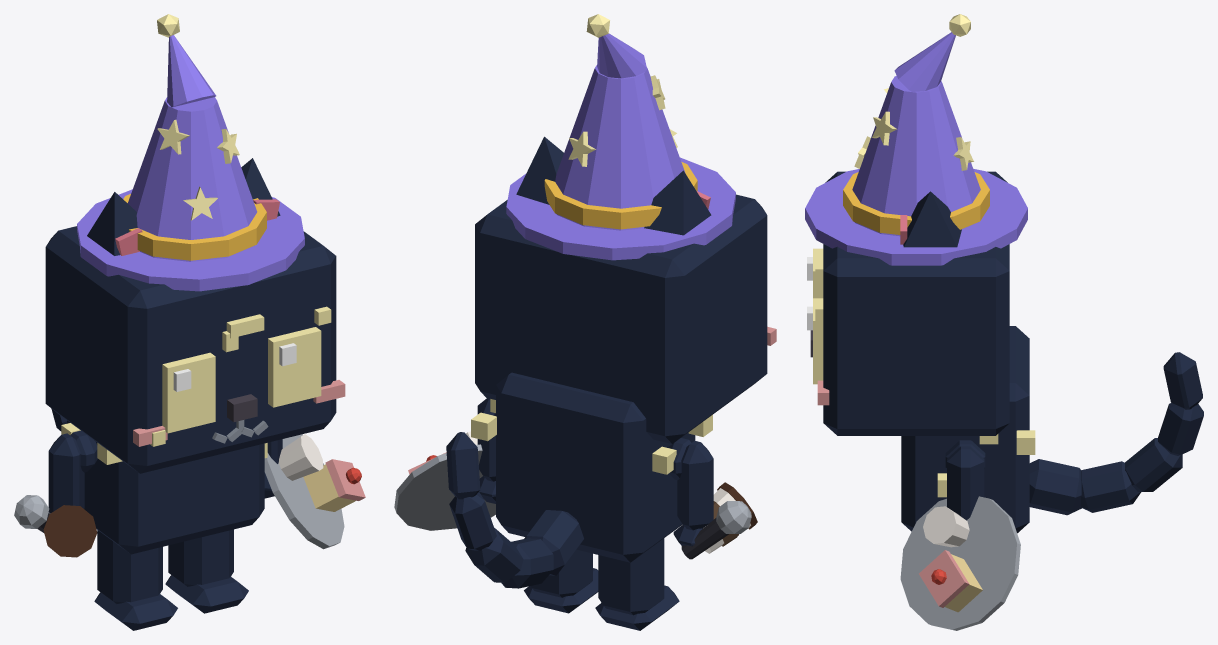
The model's file is CatCafe_Cat_Midnight_Work.glb.
The picture shows the model from 3 angles, left to right: view 1: azimuth 30°, elevation 25°; view 2: azimuth 150°, elevation 25°; view 3: azimuth 270°, elevation 25°; orthographic projection. The views are drawn at different scales.
Parts seen in each view (by area): view 1: CatCafe_Cat_Midnight_Work_Head, CatCafe_Cat_Midnight_Work_Prop, CatCafe_Cat_Midnight_Work_Body, CatCafe_Cat_Midnight_Work_Held_Waiter, CatCafe_Cat_Midnight_Work_LegB2, CatCafe_Cat_Midnight_Work_LegB1, CatCafe_Cat_Midnight_Work_Eye1, CatCafe_Cat_Midnight_Work_Eye2, CatCafe_Cat_Midnight_Work_LegF2, CatCafe_Cat_Midnight_Work_Held_Barista, CatCafe_Cat_Midnight_Work_EarR, CatCafe_Cat_Midnight_Work_EarL (+1 smaller); view 2: CatCafe_Cat_Midnight_Work_Head, CatCafe_Cat_Midnight_Work_Body, CatCafe_Cat_Midnight_Work_Prop, CatCafe_Cat_Midnight_Work_Tail, CatCafe_Cat_Midnight_Work_LegB2, CatCafe_Cat_Midnight_Work_Held_Waiter, CatCafe_Cat_Midnight_Work_LegF2, CatCafe_Cat_Midnight_Work_LegB1, CatCafe_Cat_Midnight_Work_EarR, CatCafe_Cat_Midnight_Work_Held_Entertainer, CatCafe_Cat_Midnight_Work_EarL, CatCafe_Cat_Midnight_Work_LegF1 (+1 smaller); view 3: CatCafe_Cat_Midnight_Work_Head, CatCafe_Cat_Midnight_Work_Prop, CatCafe_Cat_Midnight_Work_Held_Waiter, CatCafe_Cat_Midnight_Work_Body, CatCafe_Cat_Midnight_Work_Tail, CatCafe_Cat_Midnight_Work_EarL, CatCafe_Cat_Midnight_Work_LegF1, CatCafe_Cat_Midnight_Work_Eye1.
Boxes of the visible parts, x1,y1,x2,y2 form: CatCafe_Cat_Midnight_Work_Head: (45, 226, 345, 473); CatCafe_Cat_Midnight_Work_Prop: (77, 14, 304, 291); CatCafe_Cat_Midnight_Work_Body: (61, 420, 267, 554); CatCafe_Cat_Midnight_Work_Held_Waiter: (264, 434, 365, 549); CatCafe_Cat_Midnight_Work_LegB2: (94, 530, 177, 630); CatCafe_Cat_Midnight_Work_LegB1: (165, 529, 248, 613); CatCafe_Cat_Midnight_Work_Eye1: (268, 327, 321, 407); CatCafe_Cat_Midnight_Work_Eye2: (162, 352, 215, 433); CatCafe_Cat_Midnight_Work_LegF2: (48, 433, 84, 513); CatCafe_Cat_Midnight_Work_Held_Barista: (43, 505, 97, 557); CatCafe_Cat_Midnight_Work_EarR: (87, 192, 142, 255); CatCafe_Cat_Midnight_Work_EarL: (241, 158, 280, 220); CatCafe_Cat_Midnight_Work_Head: (475, 194, 776, 443); CatCafe_Cat_Midnight_Work_Body: (471, 372, 712, 562); CatCafe_Cat_Midnight_Work_Prop: (506, 14, 735, 260); CatCafe_Cat_Midnight_Work_Tail: (446, 432, 583, 588); CatCafe_Cat_Midnight_Work_LegB2: (595, 538, 679, 630); CatCafe_Cat_Midnight_Work_Held_Waiter: (394, 431, 495, 530); CatCafe_Cat_Midnight_Work_LegF2: (673, 441, 713, 546); CatCafe_Cat_Midnight_Work_LegB1: (524, 549, 598, 613); CatCafe_Cat_Midnight_Work_EarR: (644, 170, 711, 235); CatCafe_Cat_Midnight_Work_Held_Entertainer: (681, 501, 751, 559); CatCafe_Cat_Midnight_Work_EarL: (516, 136, 563, 204); CatCafe_Cat_Midnight_Work_LegF1: (477, 398, 495, 503); CatCafe_Cat_Midnight_Work_Head: (810, 171, 1009, 435); CatCafe_Cat_Midnight_Work_Prop: (805, 14, 1027, 265); CatCafe_Cat_Midnight_Work_Held_Waiter: (900, 496, 1020, 630); CatCafe_Cat_Midnight_Work_Body: (901, 326, 1035, 533); CatCafe_Cat_Midnight_Work_Tail: (1029, 352, 1203, 515); CatCafe_Cat_Midnight_Work_EarL: (900, 191, 961, 247); CatCafe_Cat_Midnight_Work_LegF1: (947, 446, 984, 520); CatCafe_Cat_Midnight_Work_Eye1: (807, 298, 823, 384).
Bounding box in the file's own units: 1.53 × 2.58 × 1.63.
1 material, 1 textured.
